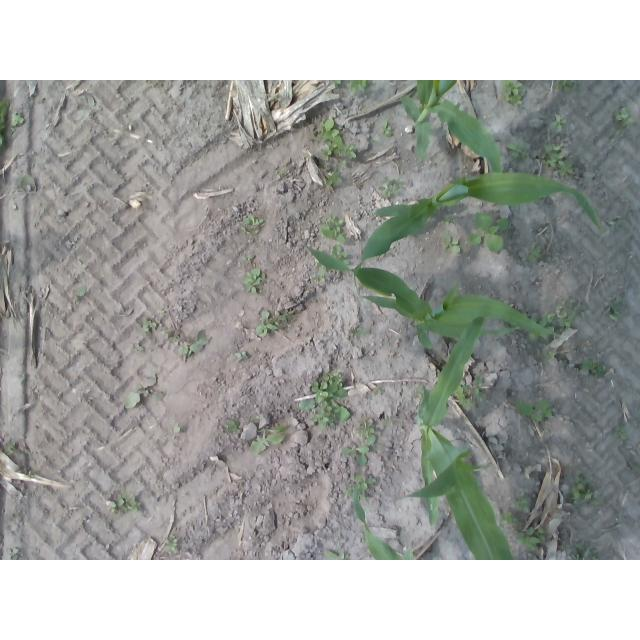Maize: (353, 170, 600, 299), (395, 318, 519, 560), (300, 241, 568, 343), (398, 80, 504, 174), (350, 481, 423, 560)
Weeds: (298, 371, 351, 430), (467, 213, 509, 256), (317, 116, 358, 160), (124, 373, 163, 409), (538, 144, 575, 177), (341, 434, 377, 467), (451, 376, 486, 408), (250, 425, 287, 455), (567, 475, 600, 506), (555, 296, 585, 329), (514, 398, 554, 422), (524, 312, 557, 340), (344, 475, 377, 501), (611, 106, 637, 137), (178, 330, 209, 356), (254, 311, 286, 336), (515, 525, 545, 551), (319, 215, 345, 243), (500, 80, 525, 108), (242, 268, 267, 294), (378, 176, 407, 198), (110, 494, 139, 515), (506, 139, 530, 162), (0, 98, 10, 149), (579, 359, 606, 377), (571, 542, 598, 560), (607, 295, 625, 322), (241, 216, 264, 237), (521, 242, 543, 262), (510, 493, 531, 513), (312, 260, 328, 284), (325, 167, 344, 187), (550, 115, 569, 134), (331, 245, 349, 265), (442, 235, 462, 253), (348, 80, 373, 93), (357, 419, 375, 437), (553, 80, 575, 94), (499, 509, 518, 525), (223, 419, 241, 435), (325, 549, 350, 560), (162, 538, 179, 553), (139, 319, 157, 332), (612, 427, 628, 441), (380, 120, 393, 137), (11, 113, 25, 128), (3, 442, 19, 455), (539, 349, 557, 360), (161, 329, 176, 341), (6, 548, 19, 561), (349, 328, 367, 337), (19, 176, 30, 189), (414, 386, 425, 398), (630, 460, 640, 473), (76, 284, 86, 296), (235, 351, 249, 359), (443, 215, 453, 226), (242, 254, 254, 263), (172, 426, 180, 434), (330, 80, 342, 85), (375, 387, 382, 395), (341, 159, 347, 165)
